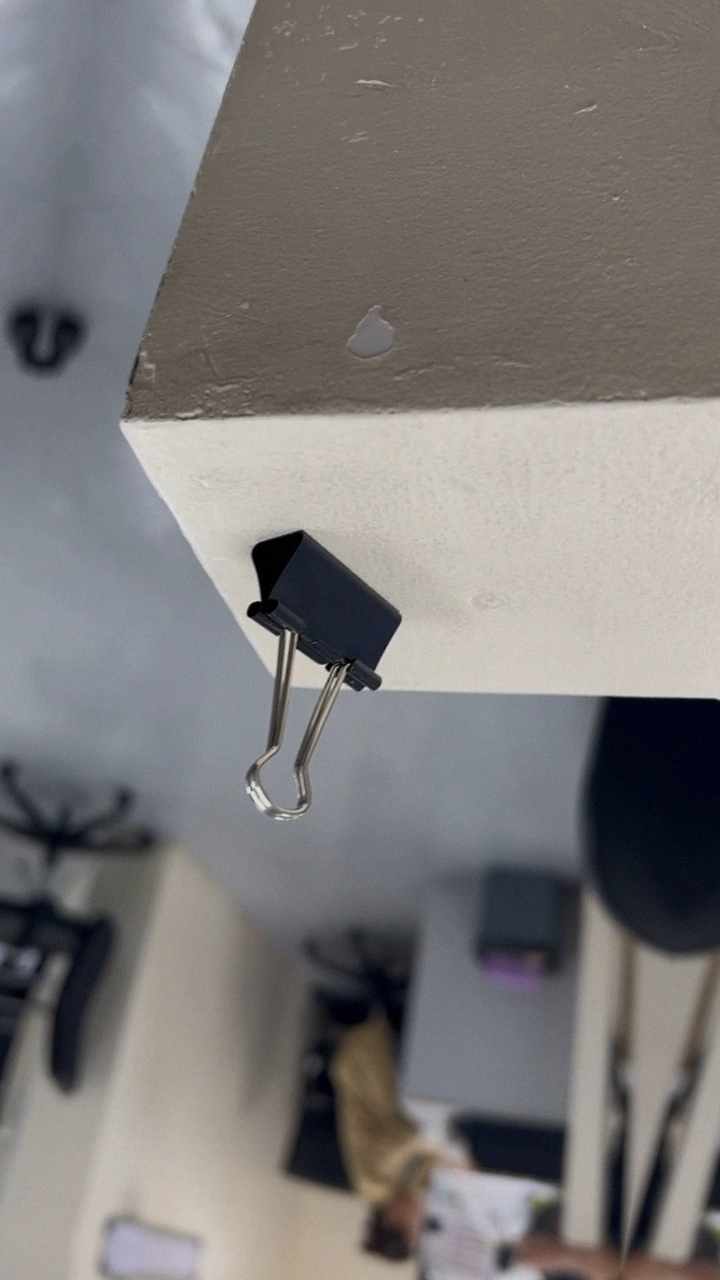kep_giay: (204, 518, 418, 838)
